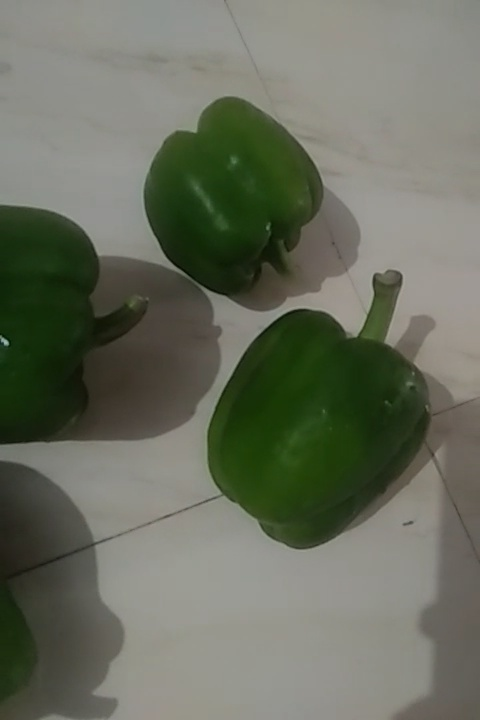capsicum: (220, 271, 418, 558), (144, 88, 313, 293), (1, 198, 103, 443), (1, 576, 45, 696)
